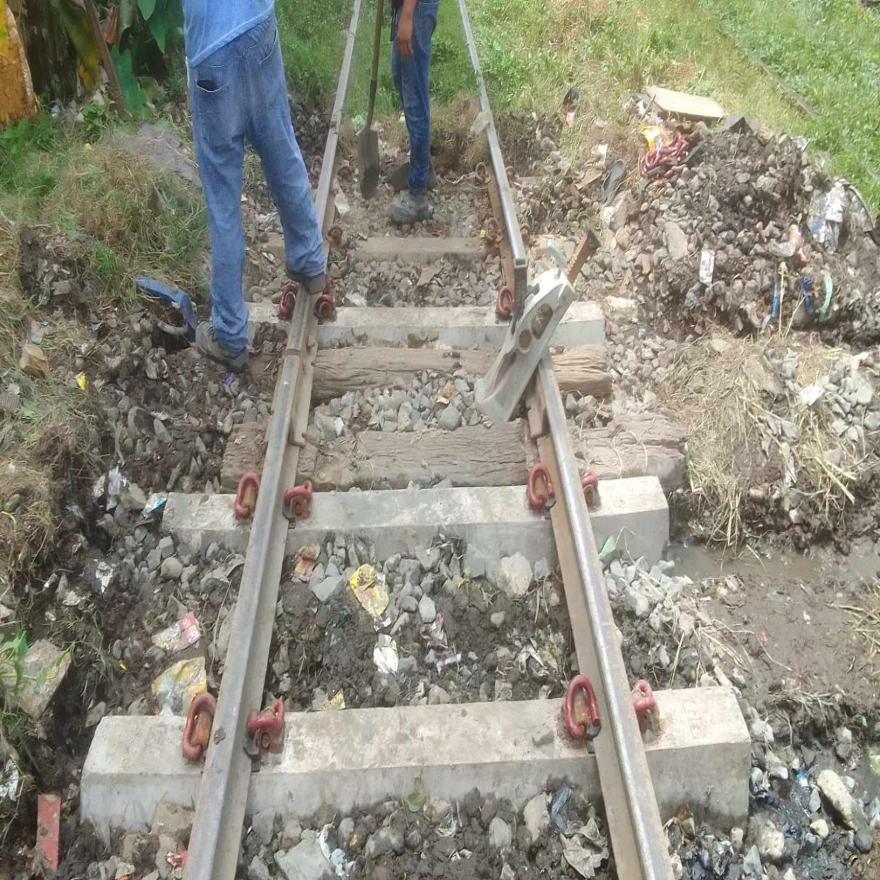railway-gap: (269, 313, 318, 393)
